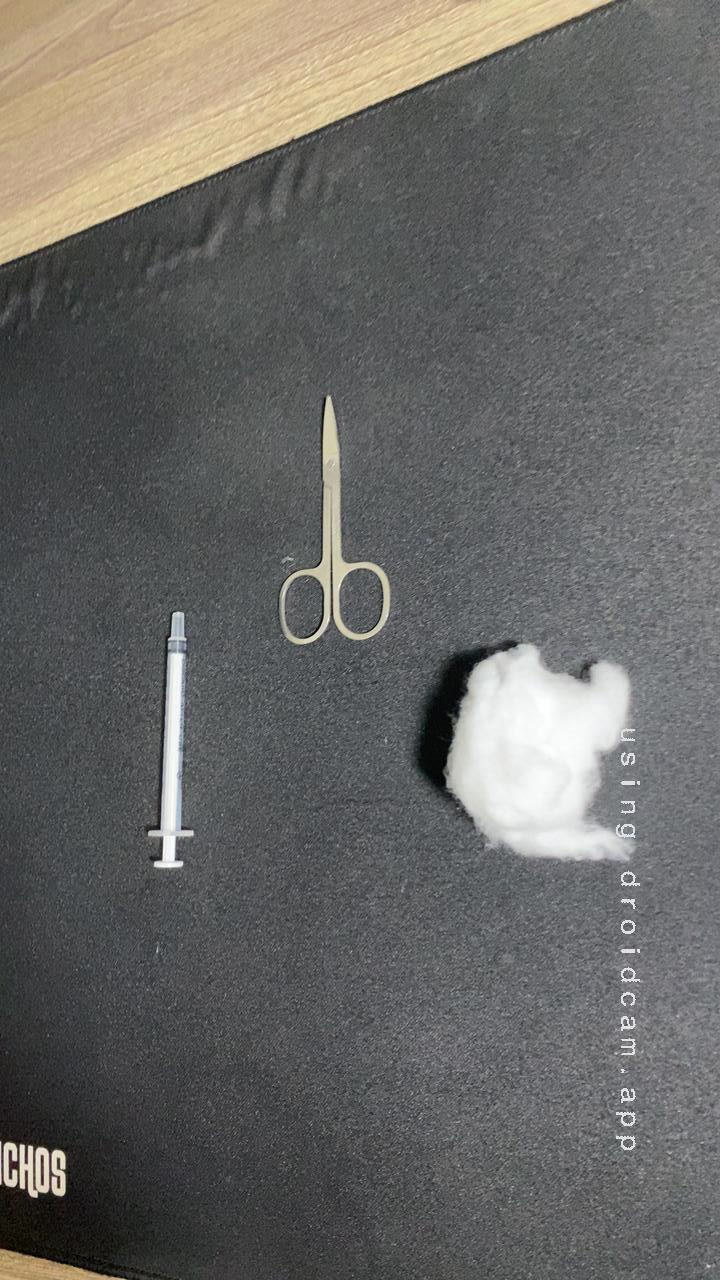cotton: (406, 624, 672, 878)
scissor: (259, 386, 410, 656)
syringe: (115, 598, 239, 880)
